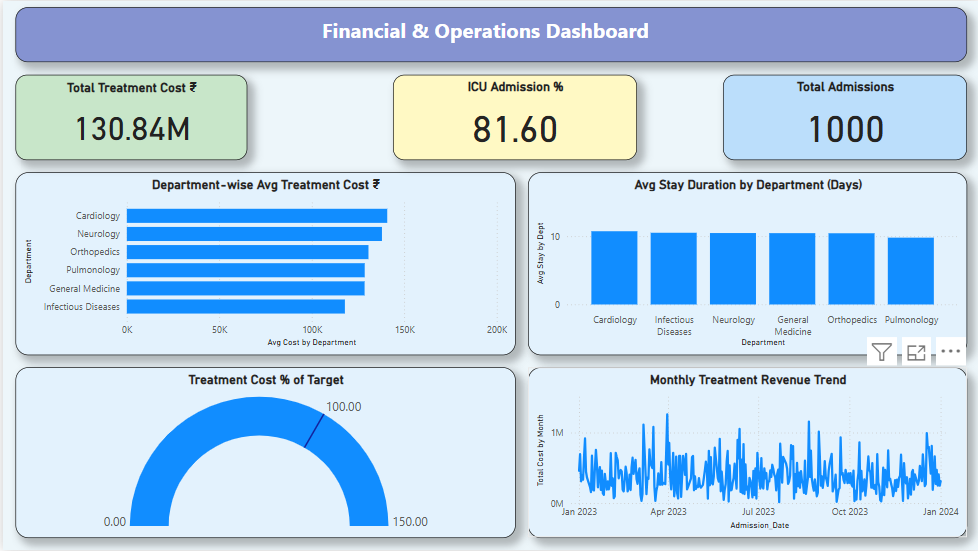

What the dashboard file says about the page in this screenshot:
{"tool":"powerbi","page":{"name":"Page 3","canvas":[1280,720],"ordinal":2},"visuals":[{"type":"textbox","box":[16,8,1248,72],"z":0},{"type":"barChart","title":"Department-wise Avg Treatment Cost ₹","fields":{"Category":["Sheet1.Department"],"Y":["Sheet1.Avg Cost by Department"]},"box":[16,224,656,240],"z":1000},{"type":"card","title":"Total Treatment Cost ₹","fields":{"Values":["Sum(Sheet1.Treatment_Cost)"]},"box":[16,96,304,112],"z":2000},{"type":"card","title":"Total Admissions","fields":{"Values":["Sheet1.Total Admissions"]},"box":[944,96,320,112],"z":3000},{"type":"gauge","fields":{"Y":["Sheet1.Treatment Cost % of Target"]},"box":[16,480,656,224],"z":4000},{"type":"clusteredColumnChart","title":"Avg Stay Duration by Department (Days)","fields":{"Category":["Sheet1.Department"],"Y":["Sheet1.Avg Stay by Dept"]},"box":[688,224,576,240],"z":5000},{"type":"lineChart","title":"Monthly Treatment Revenue Trend","fields":{"Category":["Sheet1.Admission_Date"],"Y":["Sheet1.Total Cost by Month"]},"box":[688,480,576,224],"z":6000},{"type":"card","title":"ICU Admission % ","fields":{"Values":["Sheet1.ICU Admission %"]},"box":[512,96,320,112],"z":7000}]}

Visuals, with their boxes in screenshot pixels (x1, y1, x2, y2), scaled from the page's 1280x720 canvas onto the 978x551 screenshot:
textbox: rect(12, 6, 966, 61)
"Department-wise Avg Treatment Cost ₹" barChart: rect(12, 171, 513, 355)
"Total Treatment Cost ₹" card: rect(12, 73, 244, 159)
"Total Admissions" card: rect(721, 73, 966, 159)
gauge - Sheet1.Treatment Cost % of Target: rect(12, 367, 513, 539)
"Avg Stay Duration by Department (Days)" clusteredColumnChart: rect(526, 171, 966, 355)
"Monthly Treatment Revenue Trend" lineChart: rect(526, 367, 966, 539)
"ICU Admission % " card: rect(391, 73, 636, 159)
